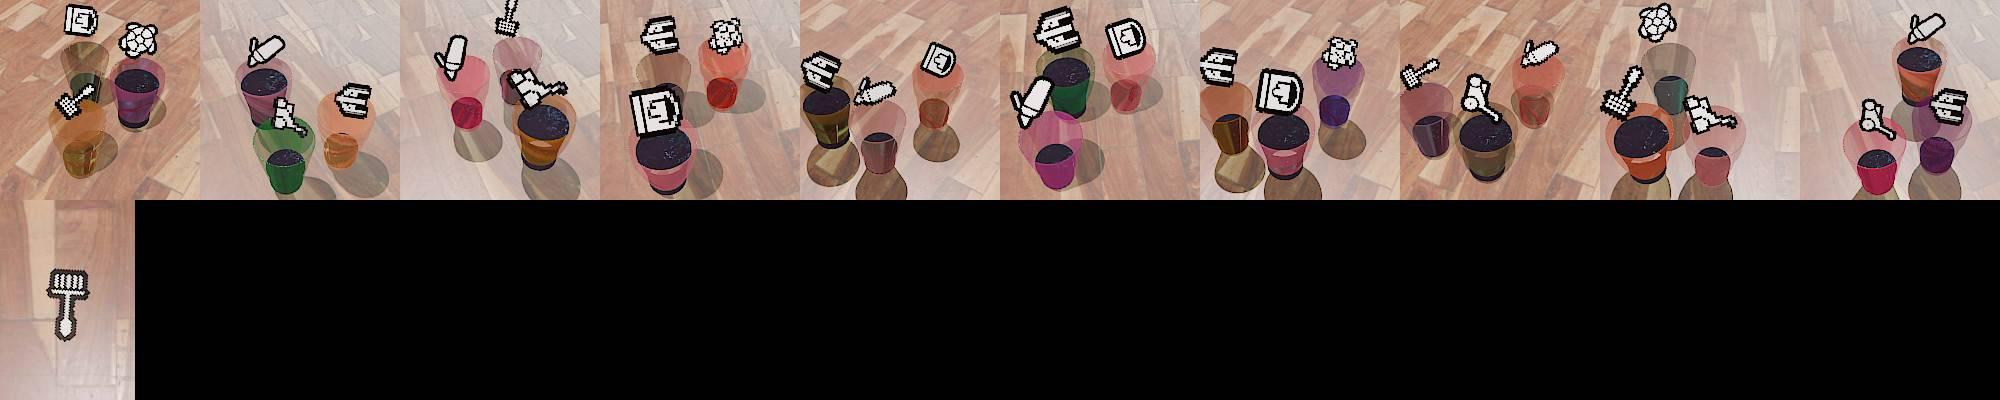icon: (46, 266, 91, 341), (628, 84, 685, 136), (1599, 62, 1651, 121), (508, 66, 569, 110), (1254, 68, 1302, 117), (1033, 5, 1080, 55), (1011, 75, 1055, 127), (1684, 93, 1737, 135), (1103, 18, 1147, 62), (800, 51, 843, 93), (1459, 73, 1497, 120), (1858, 98, 1899, 141), (1635, 3, 1677, 43), (639, 14, 680, 55), (1199, 46, 1239, 88), (1929, 87, 1969, 126), (435, 33, 468, 82), (55, 83, 98, 120), (920, 41, 958, 79), (117, 22, 158, 57), (853, 75, 898, 107), (334, 83, 372, 120), (246, 33, 286, 69), (1403, 56, 1441, 92), (707, 17, 742, 55), (1320, 36, 1358, 70), (1908, 11, 1948, 45), (1520, 37, 1561, 69), (62, 4, 98, 38), (270, 97, 304, 134), (495, 0, 522, 38)
